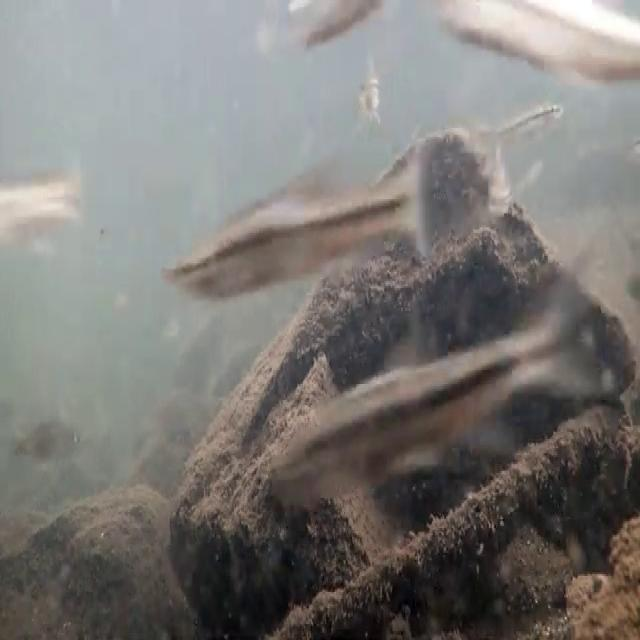Cakil Baligi: (274, 251, 594, 506), (160, 98, 427, 300)
